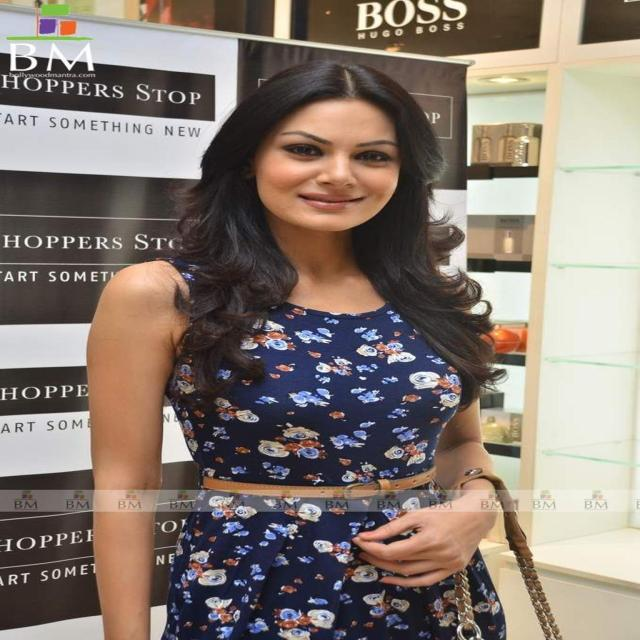Face: (235, 97, 454, 237)
